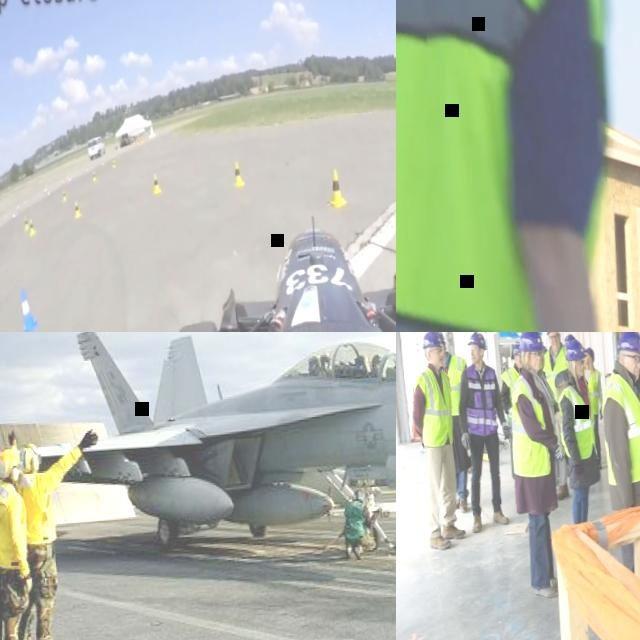Hardhat: (0, 450, 24, 482), (18, 443, 43, 473), (519, 332, 546, 352), (566, 336, 588, 360), (617, 332, 640, 354), (466, 332, 487, 349), (421, 332, 443, 347), (584, 346, 596, 362), (511, 342, 522, 355), (563, 332, 576, 342), (354, 488, 365, 499), (434, 332, 444, 340)
NO-Mask: (629, 364, 640, 379), (530, 358, 543, 370), (434, 355, 444, 366), (471, 355, 481, 364), (551, 340, 560, 349), (516, 360, 524, 368), (577, 368, 585, 376), (585, 358, 589, 362)
NO-Safety Vest: (341, 486, 388, 559), (343, 500, 368, 538)
Person: (396, 0, 627, 332), (4, 419, 115, 640), (502, 332, 576, 601), (405, 332, 470, 551), (451, 332, 520, 534), (594, 332, 640, 597), (553, 338, 609, 522), (432, 332, 478, 514), (0, 448, 41, 640), (537, 332, 579, 501), (497, 341, 531, 479), (583, 344, 608, 468), (564, 332, 576, 352)
Safety Cone: (17, 286, 41, 332), (326, 166, 350, 211), (233, 159, 246, 190), (152, 171, 163, 196), (72, 200, 83, 220), (29, 217, 37, 236), (23, 214, 31, 230), (61, 189, 67, 203), (92, 171, 98, 182), (111, 157, 116, 167)
Safety Vest: (396, 0, 635, 332), (598, 368, 640, 484), (508, 373, 553, 478), (414, 365, 456, 447), (15, 468, 60, 544), (557, 384, 600, 460), (465, 361, 502, 436), (0, 481, 23, 570), (445, 353, 471, 415), (543, 345, 570, 403), (499, 366, 524, 427), (587, 369, 605, 416)
vehicle: (134, 205, 396, 332), (88, 134, 106, 159)
